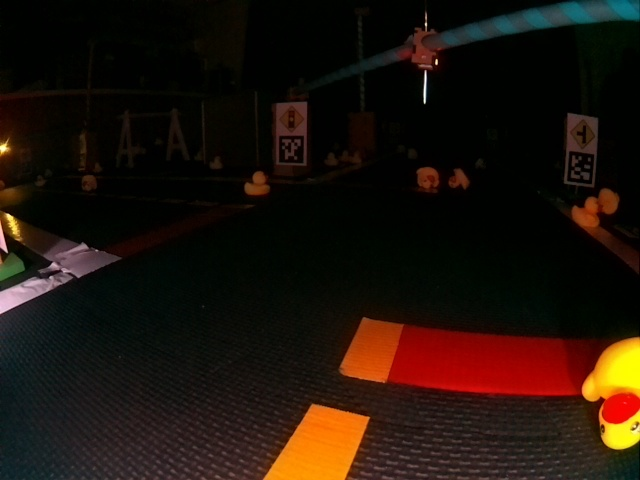Duckie: (583, 336, 639, 447), (570, 196, 601, 226), (244, 171, 269, 195), (597, 188, 620, 213), (417, 166, 439, 190), (450, 168, 470, 189), (81, 175, 96, 191), (209, 156, 221, 167), (325, 153, 337, 164), (354, 152, 361, 163)
Intersection sign: (568, 115, 598, 150)
QR code: (566, 150, 595, 185), (278, 135, 306, 165)
Signal sign: (279, 104, 305, 133)
Traffic light: (412, 37, 439, 68)
